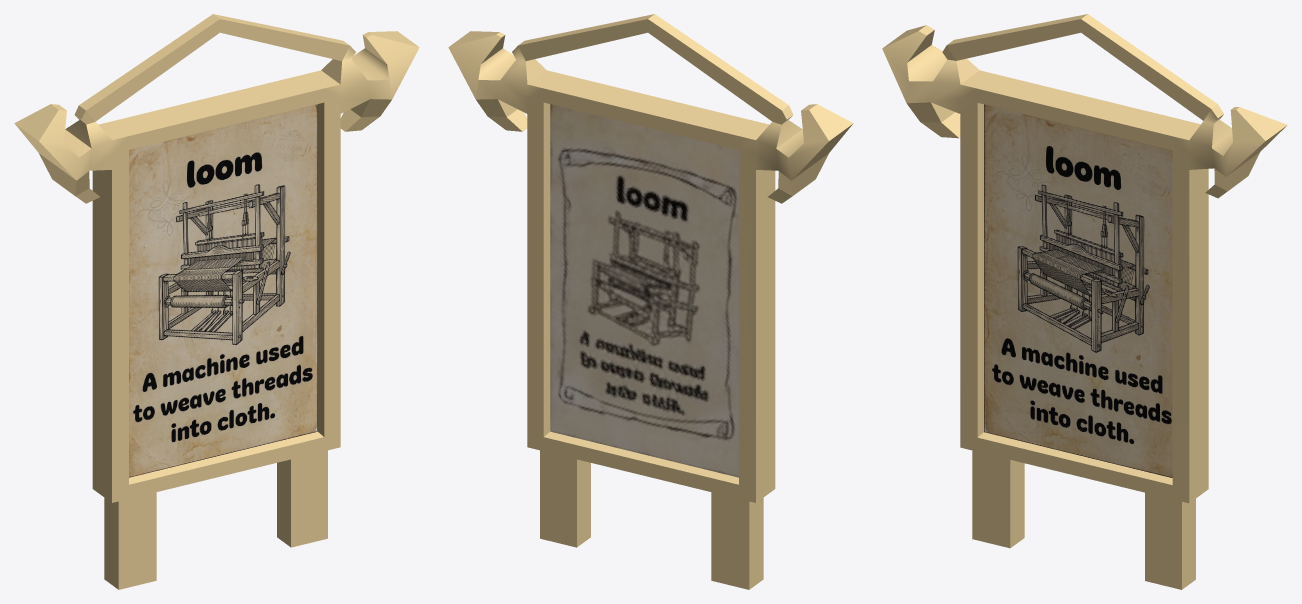
The model's file is loom.fbx.
The picture shows the model from 3 angles, left to right: view 1: azimuth 30°, elevation 25°; view 2: azimuth 150°, elevation 25°; view 3: azimuth 330°, elevation 25°; orthographic projection.
Parts seen in each view (by area): view 1: loom; view 2: loom; view 3: loom.
Boxes of the visible parts, x1,y1,x2,y2 form: loom: (14,14,419,589); loom: (448,14,853,589); loom: (882,14,1287,589).
Size of the model in its own units: 6.69 by 9.09 by 1.16.
